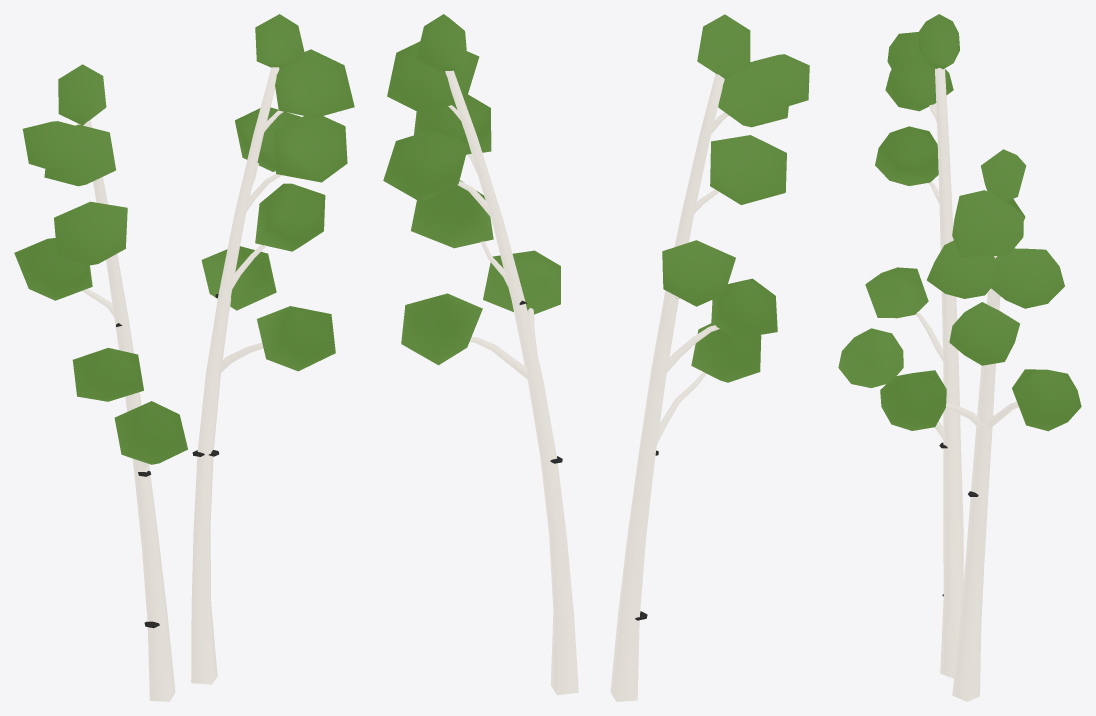
File: Blender_PaperBirch_2_Far.glb
3 renders of one model, left to right at view 1: azimuth 30°, elevation 25°; view 2: azimuth 150°, elevation 25°; view 3: azimuth 270°, elevation 25°, orthographic. The views are drawn at different scales.
Parts seen in each view (by area): view 1: Blender_PaperBirch_2_Far; view 2: Blender_PaperBirch_2_Far; view 3: Blender_PaperBirch_2_Far.
Part boxes in pixels (x1,y1,x2,y2): Blender_PaperBirch_2_Far: (14, 14, 354, 701); Blender_PaperBirch_2_Far: (383, 14, 809, 701); Blender_PaperBirch_2_Far: (838, 14, 1081, 701).
Bounding box in the file's own units: 8.35 × 14.95 × 5.31.
